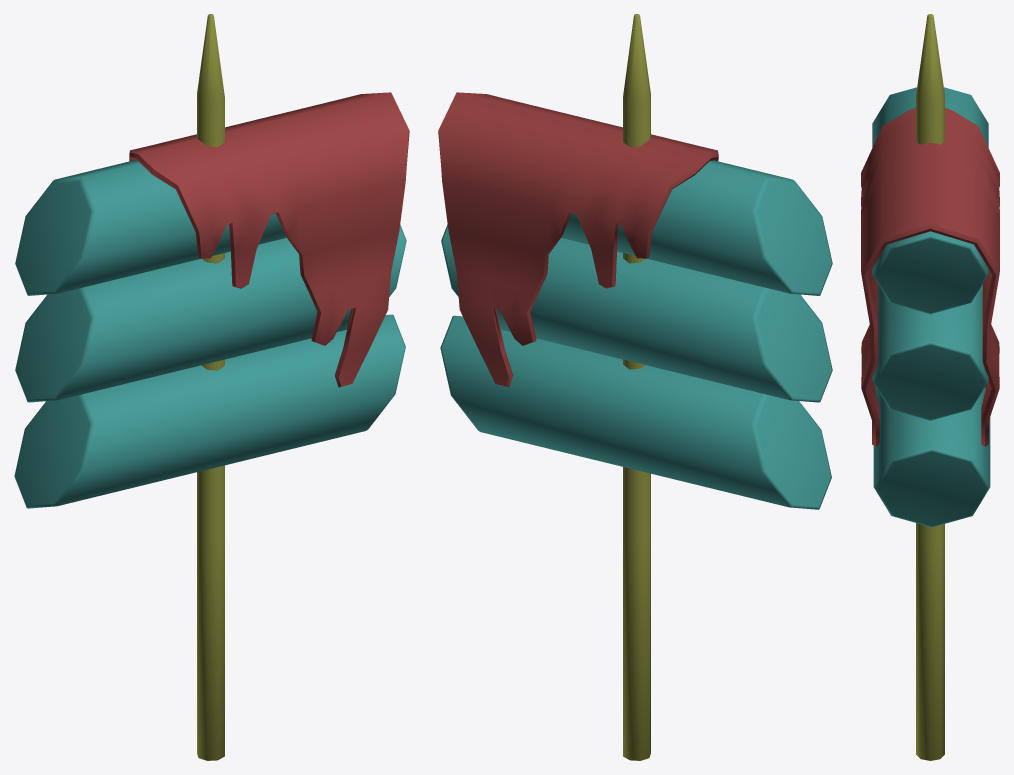
Rendered from Tteokkkochikkaebi.fbx.
The picture shows the model from 3 angles, left to right: view 1: azimuth 30°, elevation 25°; view 2: azimuth 150°, elevation 25°; view 3: azimuth 270°, elevation 25°; orthographic projection.
Parts seen in each view (by area): view 1: Tteokkkochikkaebi; view 2: Tteokkkochikkaebi; view 3: Tteokkkochikkaebi.
Part boxes in pixels (x1,y1,x2,y2): Tteokkkochikkaebi: [14, 14, 409, 760]; Tteokkkochikkaebi: [438, 14, 832, 760]; Tteokkkochikkaebi: [861, 14, 999, 760].
Size of the model in its own units: 30.5 by 58.84 by 10.01.
